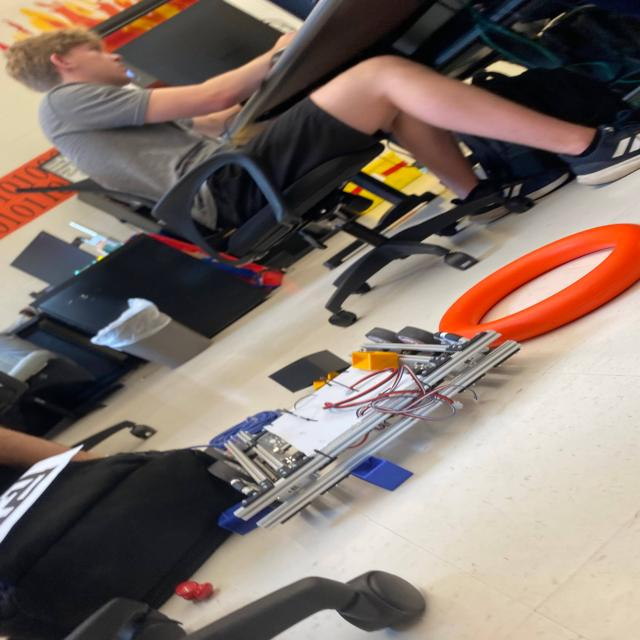blue-specimen: (351, 457, 413, 491), (218, 503, 273, 535)
yellow-specimen: (352, 351, 398, 370), (314, 372, 340, 391)
